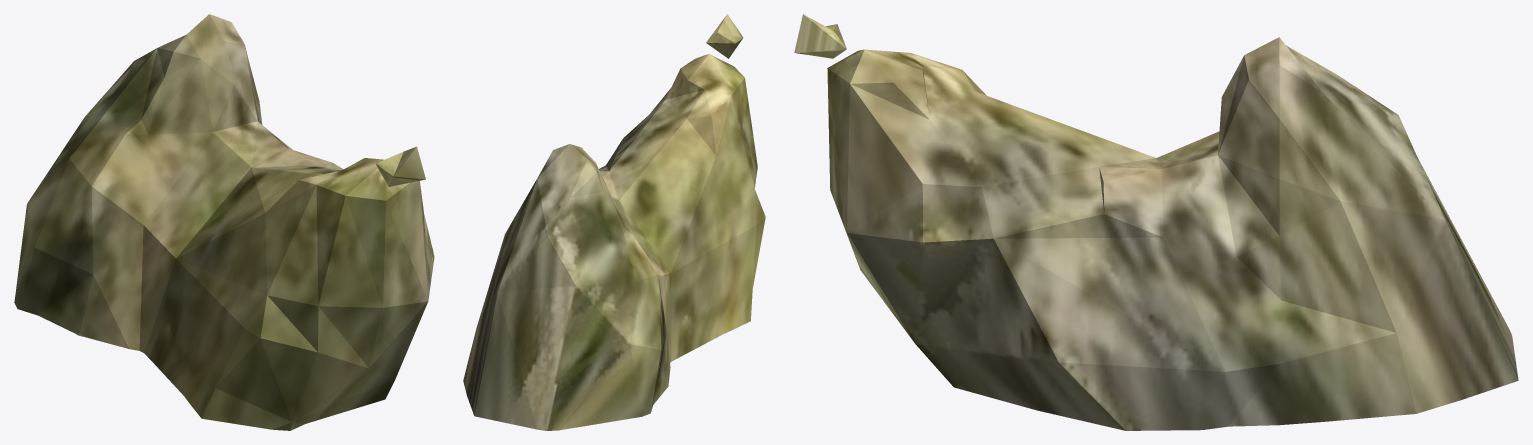
The picture shows the model from 3 angles, left to right: view 1: azimuth 30°, elevation 25°; view 2: azimuth 150°, elevation 25°; view 3: azimuth 270°, elevation 25°; orthographic projection. The views are drawn at different scales.
Size of the model in its own units: 0.8988 by 1.02 by 1.88.
Materials: 1 (1 with a texture image).
